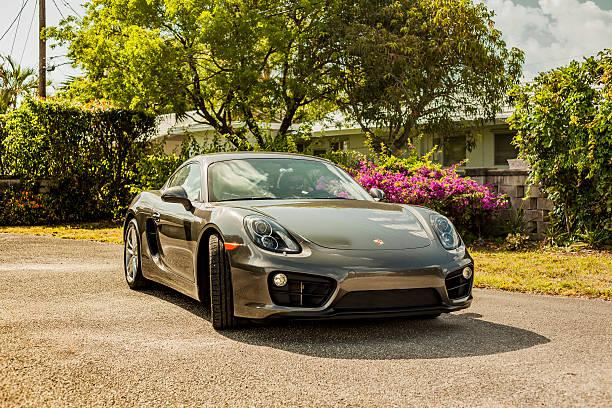porsche: (369, 235, 390, 246)
